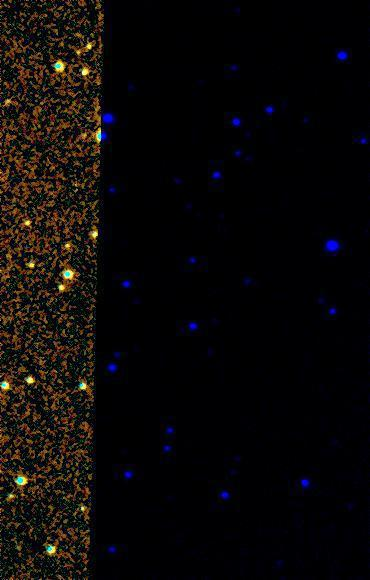star: (61, 37, 91, 67)
